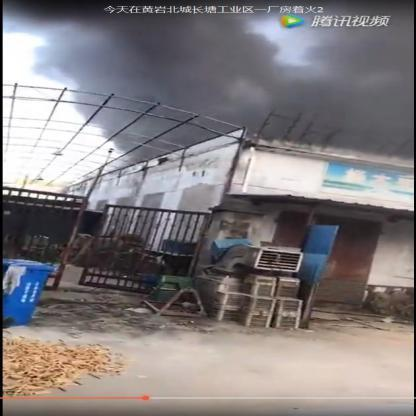smoke: (2, 1, 284, 82), (77, 82, 254, 154), (260, 83, 414, 154), (307, 9, 411, 81)
